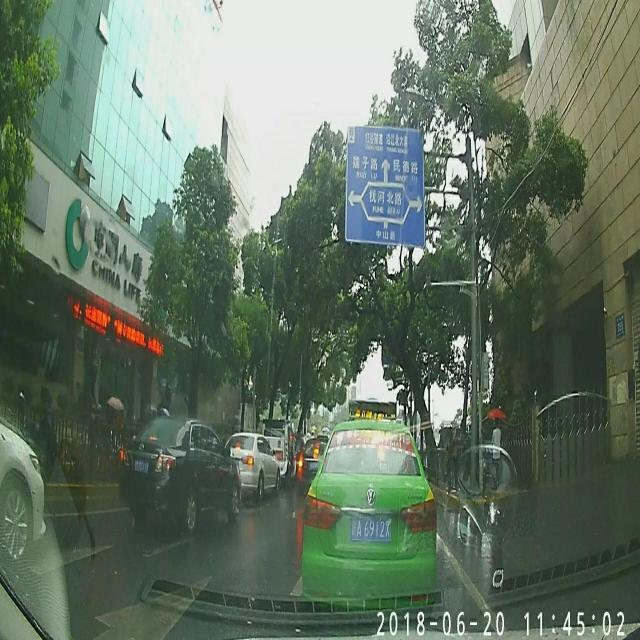car: (301, 412, 434, 608), (118, 418, 242, 534), (0, 421, 45, 560), (223, 430, 280, 500)
